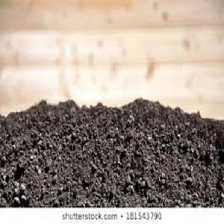loamy_soil: (7, 89, 211, 194)
